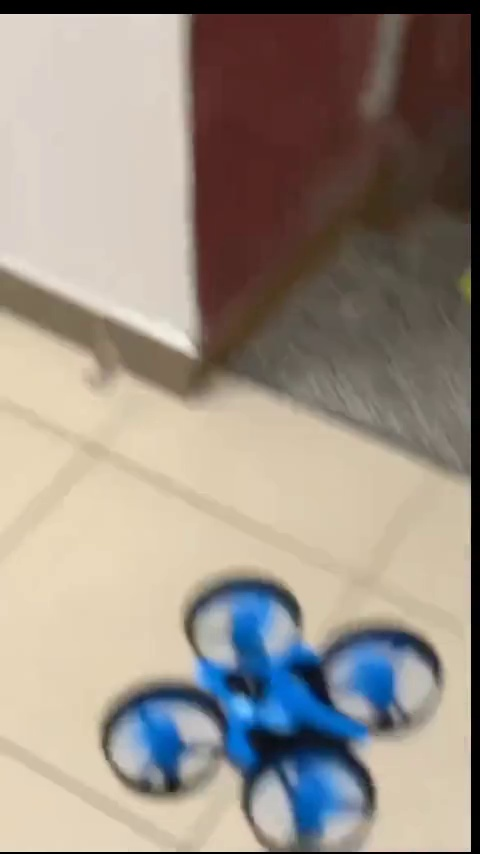drone: (101, 577, 442, 847)
